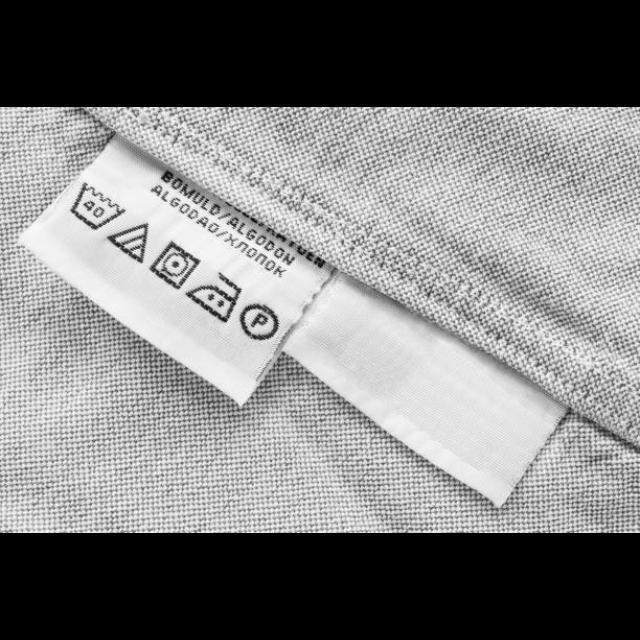40C: (65, 178, 127, 235)
iron_medium: (182, 268, 246, 326)
non_chlorine_bleach: (102, 218, 156, 266)
normal_dry_clean_solvents: (236, 298, 282, 346)
tumble_dry_low: (144, 236, 204, 294)
